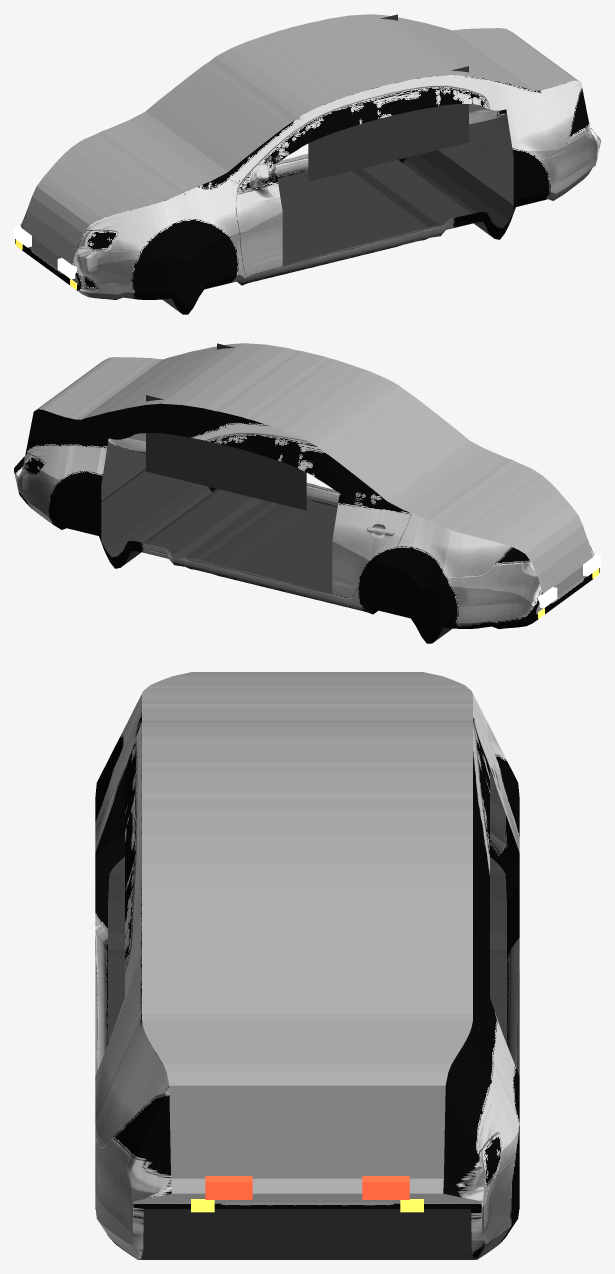
Rendered from body.glb.
The picture shows the model from 3 angles, top to bottom: view 1: azimuth 30°, elevation 25°; view 2: azimuth 150°, elevation 25°; view 3: azimuth 270°, elevation 25°; orthographic projection. The views are drawn at different scales.
Visible parts, largest first — view 1: Paint, Trim, Cabin; view 2: Paint, Trim, Cabin; view 3: Paint, Trim, LampTailL, LampTailR.
Boxes of the visible parts, <box> form: Paint: <box>15,14,600,314</box>; Trim: <box>162,112,513,313</box>; Cabin: <box>308,14,468,181</box>; Paint: <box>14,343,599,643</box>; Trim: <box>101,441,452,642</box>; Cabin: <box>146,343,306,510</box>; Paint: <box>95,672,519,1259</box>; Trim: <box>108,857,506,1259</box>; LampTailL: <box>205,1176,252,1199</box>; LampTailR: <box>362,1176,409,1199</box>.
Size of the model in its own units: 3.56 by 1.14 by 1.26.
10 materials, 1 textured.
